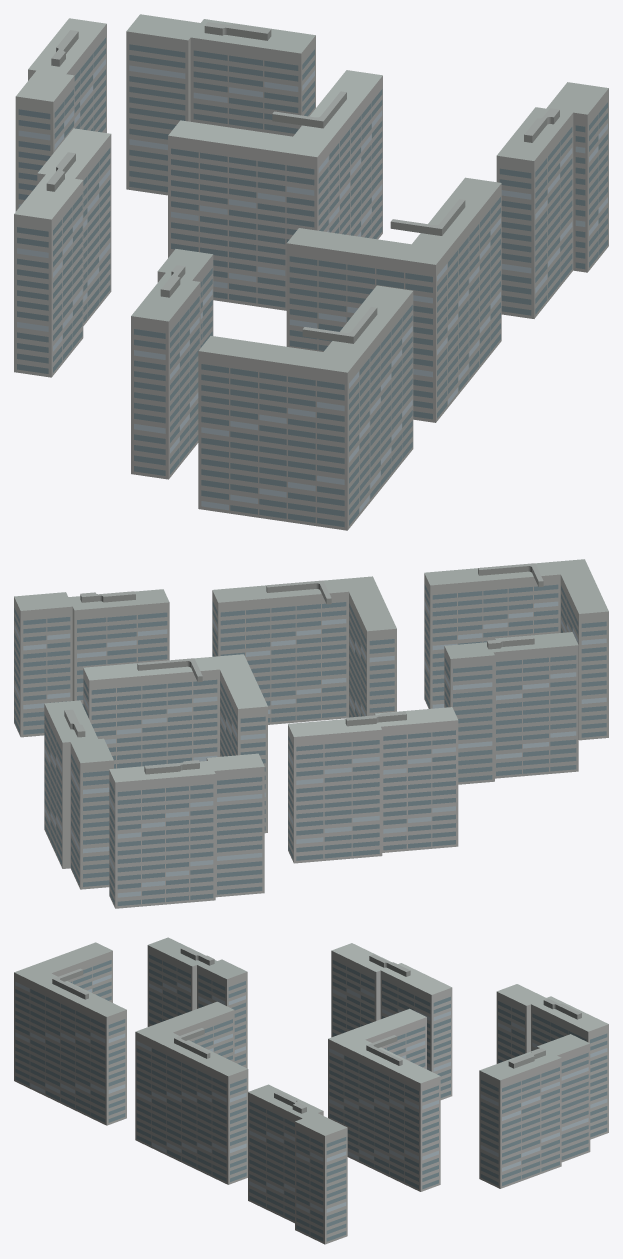
The model's file is apt-a13522006.glb.
3 renders of one model, top to bottom at view 1: azimuth 30°, elevation 25°; view 2: azimuth 150°, elevation 25°; view 3: azimuth 270°, elevation 25°, orthographic. The views are drawn at different scales.
Visible parts, largest first — view 1: apt-a13522006; view 2: apt-a13522006; view 3: apt-a13522006.
Part boxes in pixels (x1,y1,x2,y2): apt-a13522006: [14, 14, 608, 530]; apt-a13522006: [14, 559, 608, 908]; apt-a13522006: [14, 937, 608, 1244].
Bounding box in the file's own units: 179 × 47.81 × 227.
